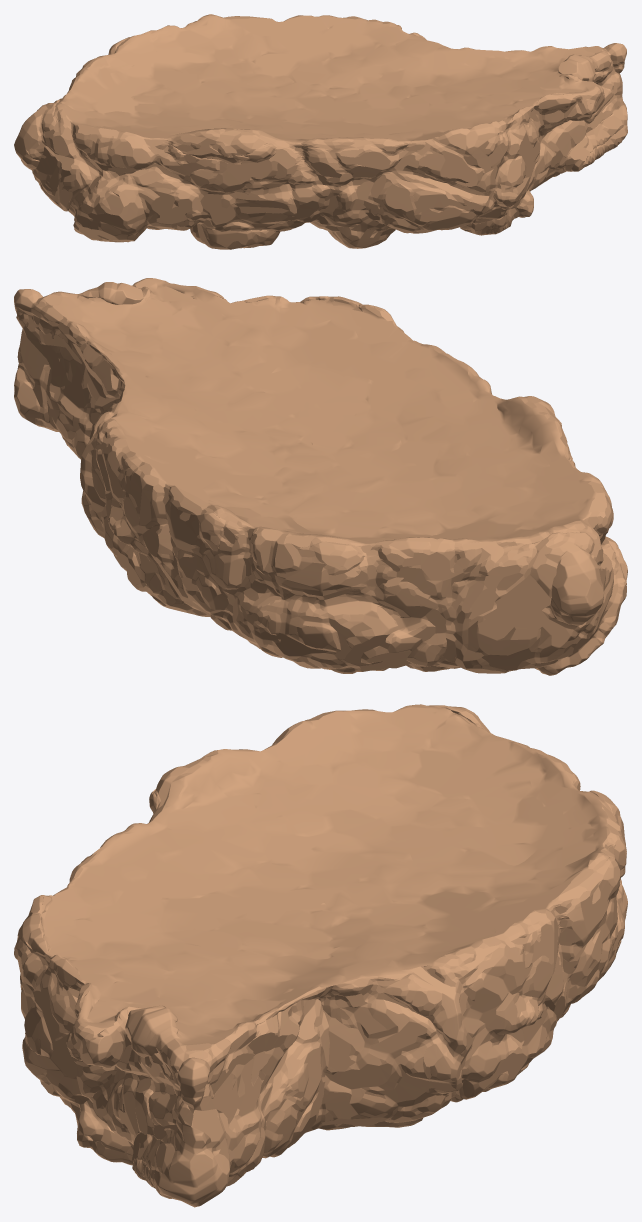
The model's file is SandstoneBig_Mesh_85LODs.fbx.
The picture shows the model from 3 angles, top to bottom: view 1: azimuth 30°, elevation 25°; view 2: azimuth 150°, elevation 25°; view 3: azimuth 270°, elevation 25°; orthographic projection. The views are drawn at different scales.
Visible parts, largest first — view 1: Mesh_85_LOD0; view 2: Mesh_85_LOD0; view 3: Mesh_85_LOD0.
Part boxes in pixels (x1,y1,x2,y2): Mesh_85_LOD0: [14, 14, 627, 249]; Mesh_85_LOD0: [14, 278, 627, 675]; Mesh_85_LOD0: [14, 704, 627, 1207].
Size of what is drawn, in the model's own units: 19980 by 5248 by 13195.
